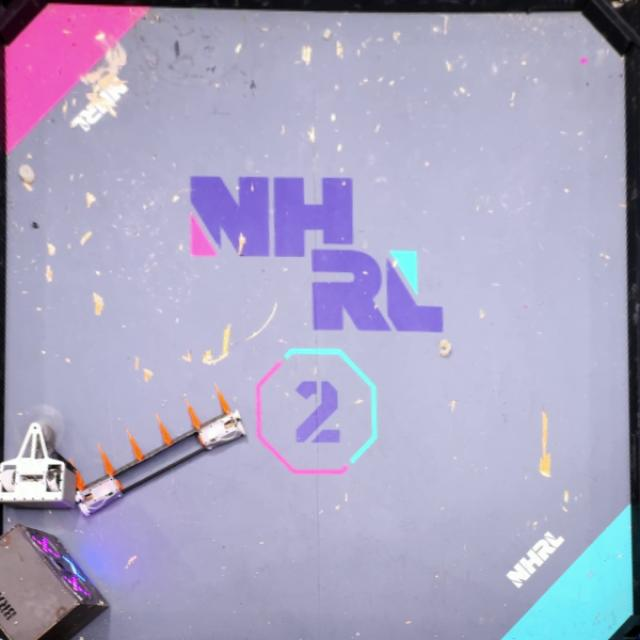housebot: (0, 521, 112, 640)
robot: (72, 389, 250, 520), (0, 403, 77, 509)
